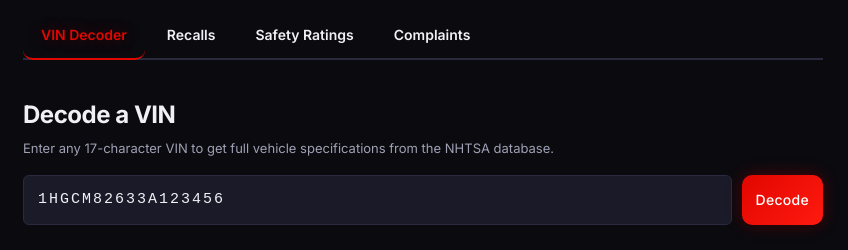
Test: VehicleLookup component › clicking Recalls tab shows vehicle form inputs
Step 1. Click the button "Recalls" → (191, 36), box [149,12,234,60]
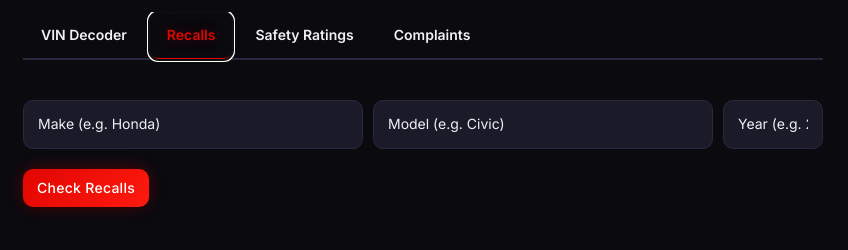
Expected: the field with placeholder "Make (e.g. Honda)" is shown, [23,100,363,149]
Expected: the field with placeholder "Model (e.g. Civic)" is shown, [373,100,713,149]
Expected: the field with placeholder "Year (e.g. 2020)" is shown, [723,100,823,149]
